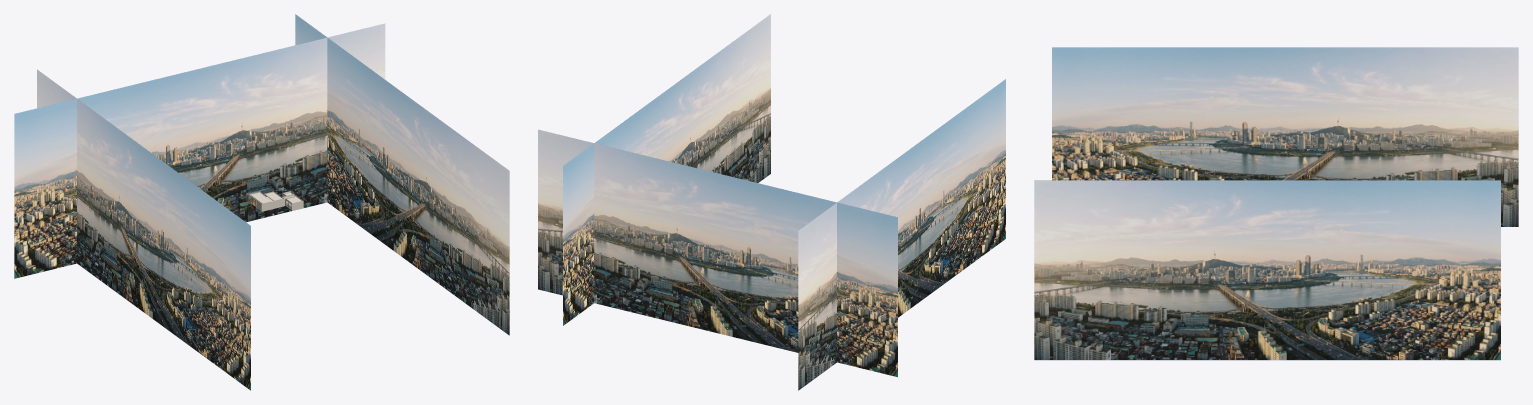
Rendered from home.glb.
3 renders of one model, left to right at view 1: azimuth 30°, elevation 25°; view 2: azimuth 150°, elevation 25°; view 3: azimuth 270°, elevation 25°, orthographic. The views are drawn at different scales.
Parts seen in each view (by area): view 1: view, L_a; view 2: view; view 3: view.
Boxes of the visible parts, x1,y1,x2,y2 form: view: (14,14,509,390); L_a: (248,191,284,211); view: (538,14,1005,390); view: (1034,47,1518,360).
Bounding box in the file's own units: 160 × 67.99 × 166.
43 materials, 17 textured.
